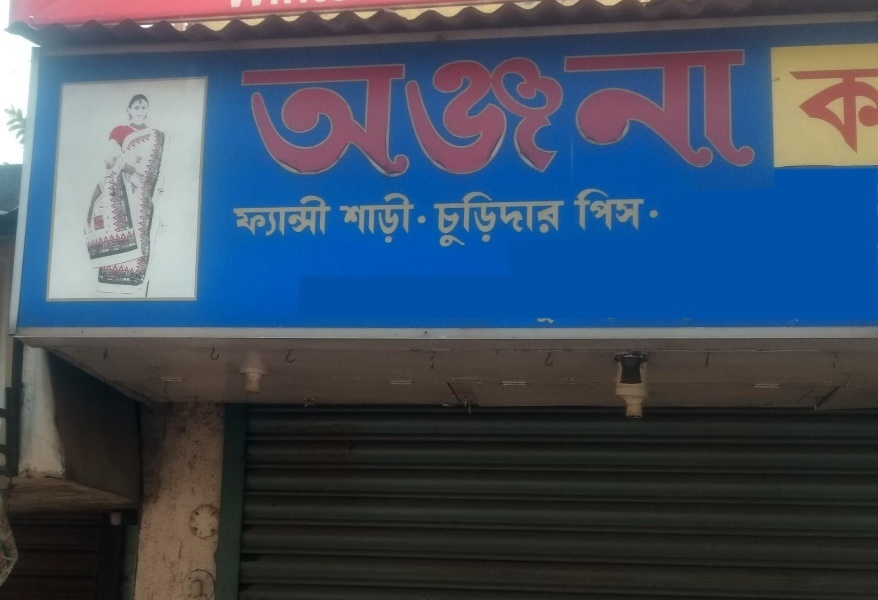text: (241, 46, 256, 181), (257, 46, 272, 181), (273, 46, 288, 181), (289, 46, 304, 181), (305, 46, 320, 181), (321, 46, 336, 181), (337, 46, 352, 181), (353, 46, 368, 181), (369, 46, 384, 181), (385, 46, 400, 181), (401, 46, 416, 181), (417, 46, 432, 181), (433, 46, 448, 181), (449, 46, 464, 181), (465, 46, 480, 181), (481, 46, 496, 181), (497, 46, 512, 181), (513, 46, 528, 181), (529, 46, 544, 181), (545, 46, 560, 181), (561, 46, 576, 181), (577, 46, 592, 181), (593, 46, 608, 181), (609, 46, 624, 181), (625, 46, 640, 181), (641, 46, 656, 181), (657, 46, 672, 181), (673, 46, 688, 181), (689, 46, 704, 181), (705, 46, 720, 181), (721, 46, 736, 181), (737, 46, 752, 181), (801, 70, 816, 153), (817, 70, 832, 153), (833, 70, 848, 153), (849, 70, 864, 153), (865, 70, 878, 153), (449, 191, 464, 248), (465, 191, 480, 248), (481, 191, 496, 248), (497, 191, 512, 248), (513, 191, 528, 248), (529, 191, 544, 248), (545, 191, 560, 248), (434, 191, 448, 248), (353, 192, 368, 244), (369, 192, 384, 244), (385, 192, 400, 244), (791, 70, 800, 153), (401, 192, 415, 244), (753, 46, 758, 181), (577, 188, 592, 233), (593, 188, 608, 233), (609, 188, 624, 233), (625, 188, 640, 233), (241, 195, 256, 239), (257, 195, 272, 239), (273, 195, 288, 239), (289, 195, 304, 239), (305, 195, 320, 239), (340, 192, 352, 244), (236, 46, 240, 181), (321, 195, 332, 239), (234, 195, 240, 239), (561, 191, 565, 248), (418, 215, 432, 225), (641, 188, 644, 233), (574, 188, 576, 233), (649, 210, 656, 220), (657, 210, 659, 220)
